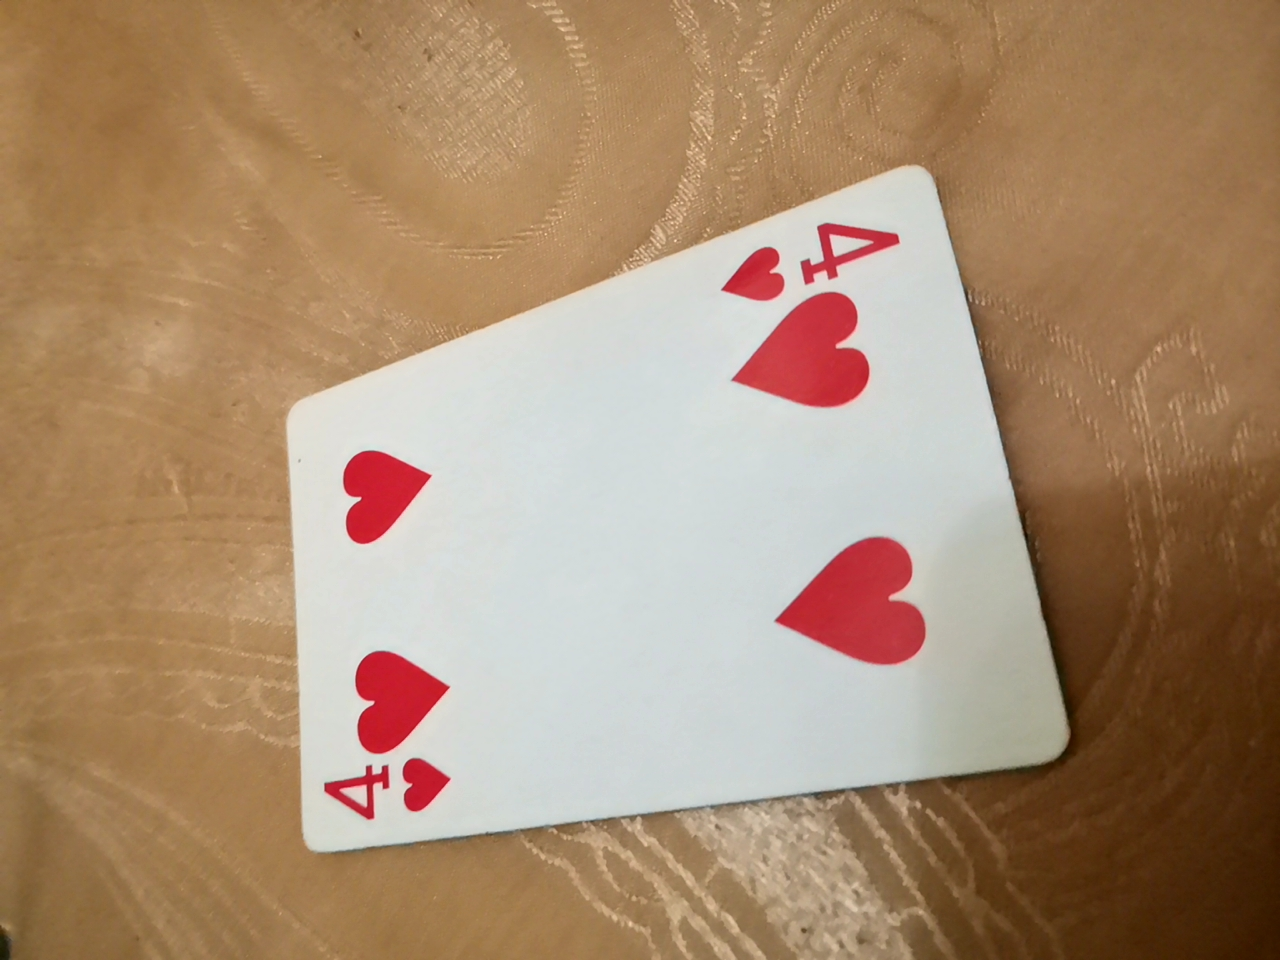hx 4: (268, 148, 1076, 838)
